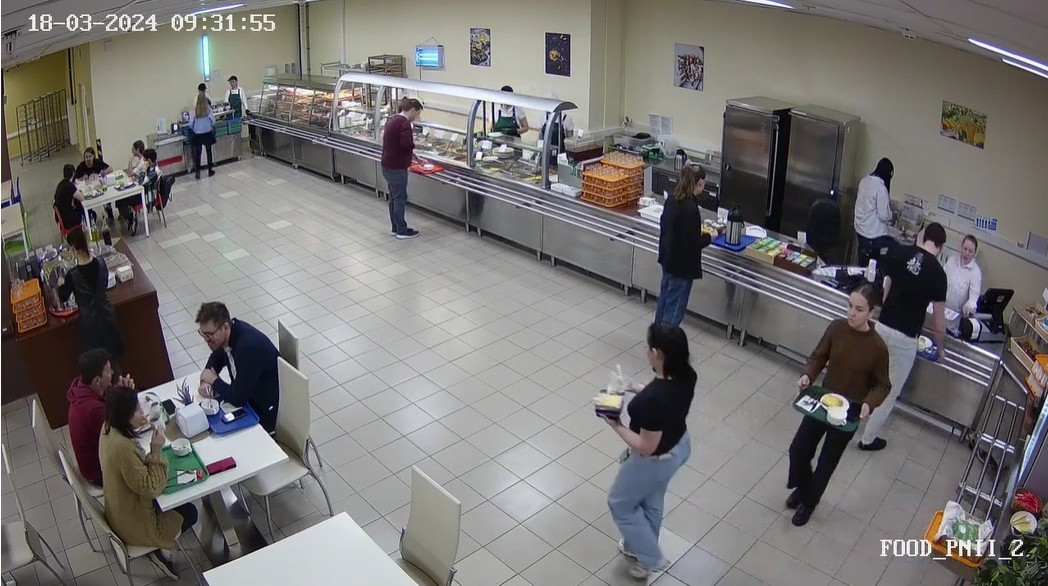Na_Kasse: (828, 196, 977, 339)
Ne_v_Ocheredi: (675, 268, 921, 526), (600, 318, 697, 580), (61, 234, 118, 345)
Personal: (827, 147, 903, 256), (946, 226, 982, 309), (221, 69, 256, 136), (535, 91, 576, 147), (492, 80, 526, 142)
Vybiraet: (655, 158, 722, 331), (371, 87, 437, 249), (188, 94, 218, 180)
Za_Stolom: (182, 297, 292, 439), (85, 385, 175, 558), (52, 345, 119, 493), (48, 162, 86, 231), (66, 139, 113, 184), (134, 147, 169, 206), (124, 128, 146, 177)
